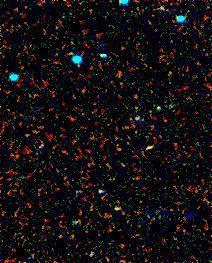star: (105, 57, 135, 87)
